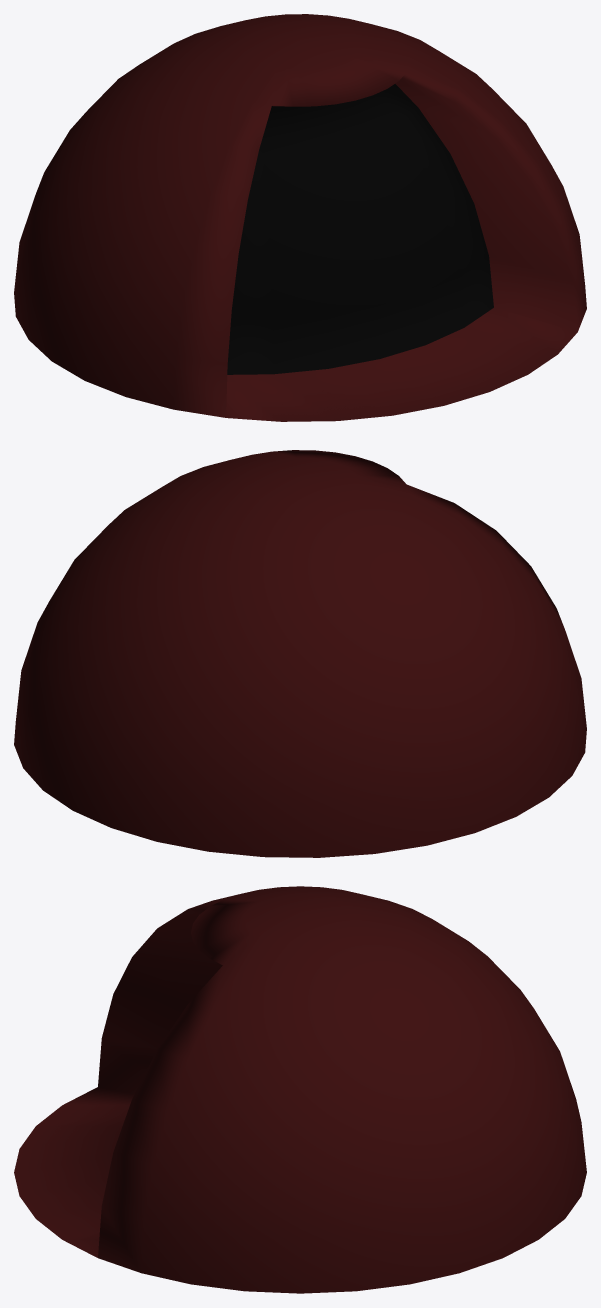
Rendered from burrow.FBX.
3 renders of one model, top to bottom at view 1: azimuth 30°, elevation 25°; view 2: azimuth 150°, elevation 25°; view 3: azimuth 270°, elevation 25°, orthographic.
Visible parts, largest first — view 1: Sphere001; view 2: Sphere001; view 3: Sphere001.
Part boxes in pixels (left/top/right/bottom): Sphere001: left=14, top=14, right=586, bottom=421; Sphere001: left=14, top=450, right=586, bottom=857; Sphere001: left=14, top=886, right=586, bottom=1293.
Bounding box in the file's own units: 72.91 × 36.46 × 72.91.
